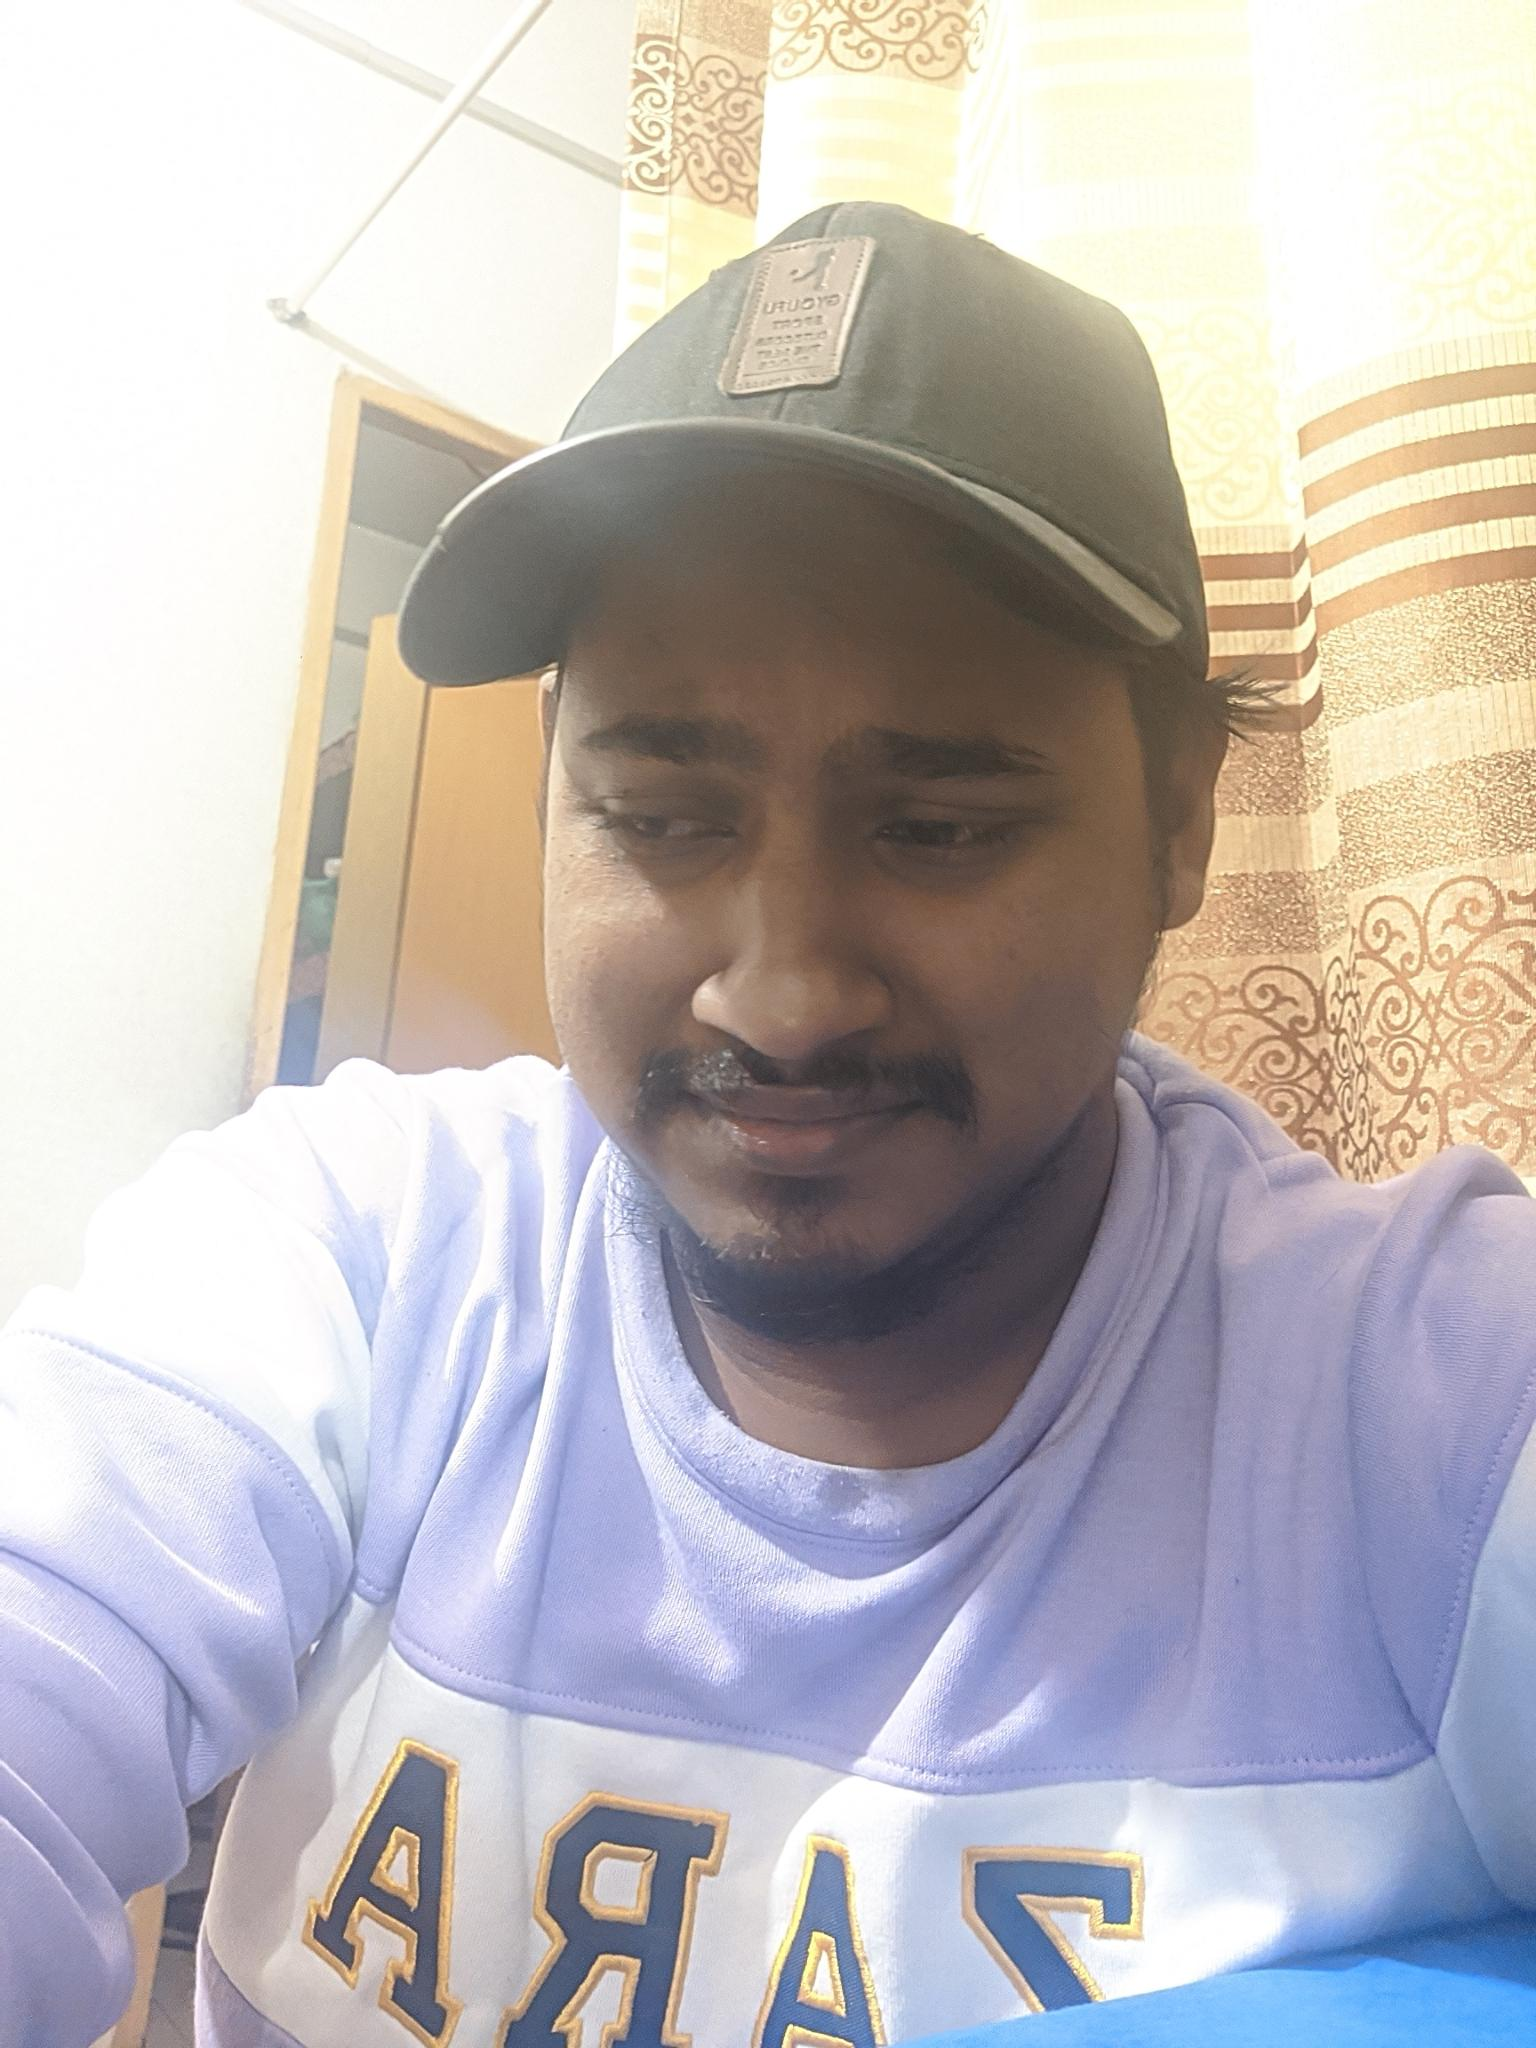Sad: (539, 640, 1097, 1301)
